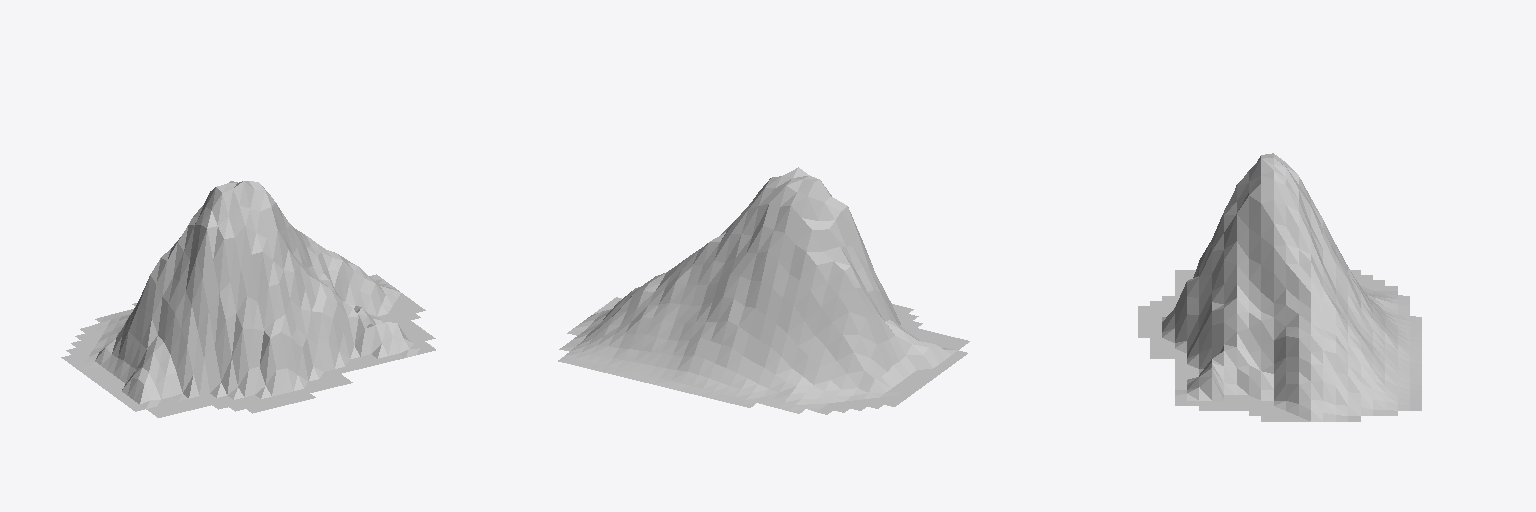
The model's file is mountain.obj.
3 views of the same model, side by side, from view 1: azimuth 30°, elevation 25°; view 2: azimuth 150°, elevation 25°; view 3: azimuth 270°, elevation 25° (orthographic).
Bounding box in the file's own units: 0.9524 × 0.4928 × 0.7302.